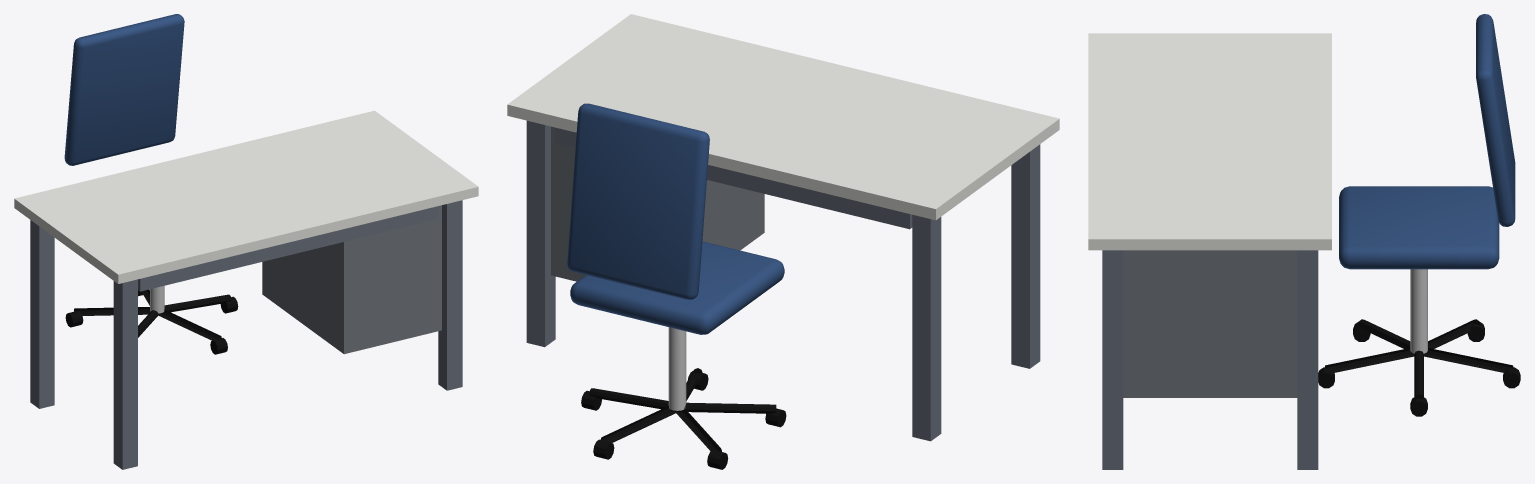
The model's file is fixture.desk_teacher.glb.
The picture shows the model from 3 angles, left to right: view 1: azimuth 30°, elevation 25°; view 2: azimuth 150°, elevation 25°; view 3: azimuth 270°, elevation 25°; orthographic projection. The views are drawn at different scales.
Visible parts, largest first — view 1: desk__laminate_white, desk__steel_painted, desk__laminate_grey, chairs__fabric_blue, chairs__plastic_black; view 2: desk__laminate_white, chairs__fabric_blue, desk__steel_painted, desk__laminate_grey, chairs__plastic_black, chairs__steel_stainless; view 3: desk__laminate_white, desk__laminate_grey, chairs__fabric_blue, desk__steel_painted, chairs__plastic_black, chairs__steel_stainless.
Boxes of the visible parts, bbox=[...] form: desk__laminate_white: bbox=[14, 110, 478, 283]; desk__steel_painted: bbox=[30, 200, 462, 469]; desk__laminate_grey: bbox=[262, 205, 441, 354]; chairs__fabric_blue: bbox=[64, 14, 184, 165]; chairs__plastic_black: bbox=[65, 289, 238, 354]; desk__laminate_white: bbox=[507, 14, 1059, 220]; chairs__fabric_blue: bbox=[567, 103, 784, 334]; desk__steel_painted: bbox=[526, 120, 1040, 441]; desk__laminate_grey: bbox=[551, 126, 764, 281]; chairs__plastic_black: bbox=[581, 368, 786, 469]; chairs__steel_stainless: bbox=[668, 327, 686, 410]; desk__laminate_white: bbox=[1088, 33, 1331, 250]; desk__laminate_grey: bbox=[1123, 250, 1297, 397]; chairs__fabric_blue: bbox=[1339, 14, 1515, 269]; desk__steel_painted: bbox=[1102, 250, 1318, 469]; chairs__plastic_black: bbox=[1318, 319, 1520, 416]; chairs__steel_stainless: bbox=[1410, 269, 1427, 353].
Bounding box in the file's own units: 1.4 × 1.05 × 1.24.
